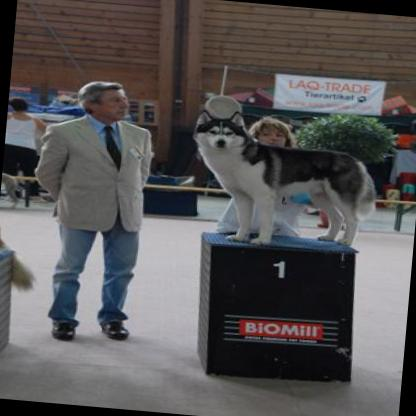Siberian_husky: (183, 108, 380, 253)
